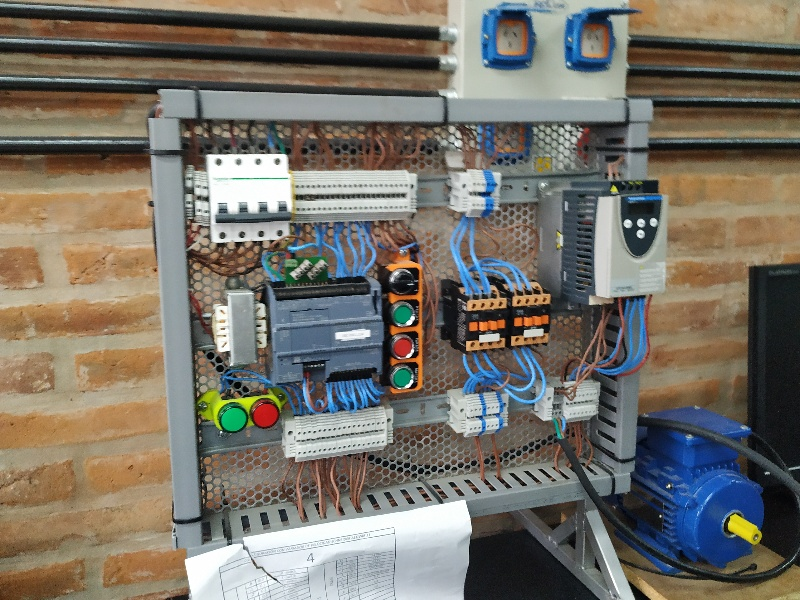Tablero 3: (168, 102, 668, 518)
